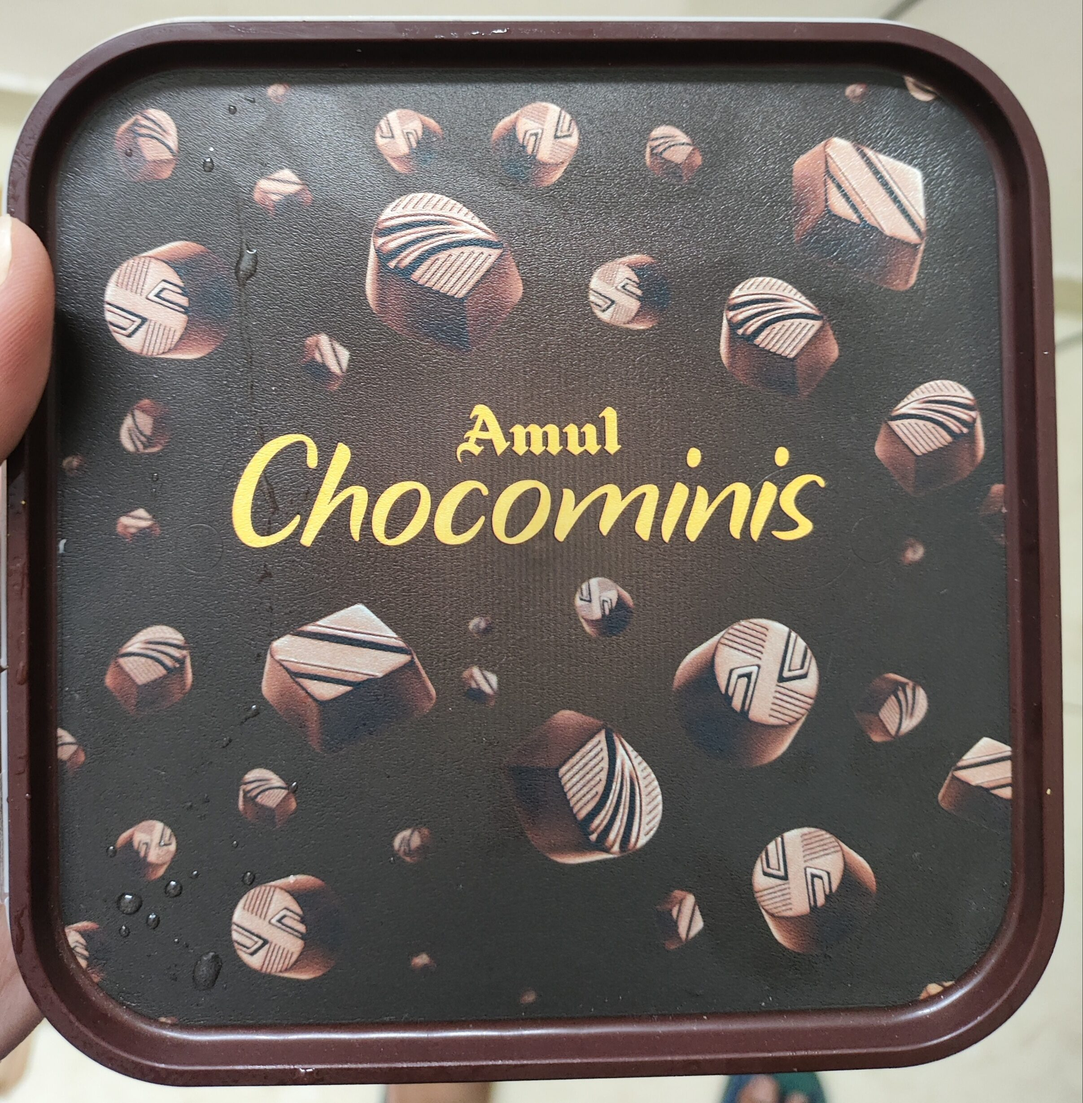Chocominis: (97, 99, 986, 1004)
